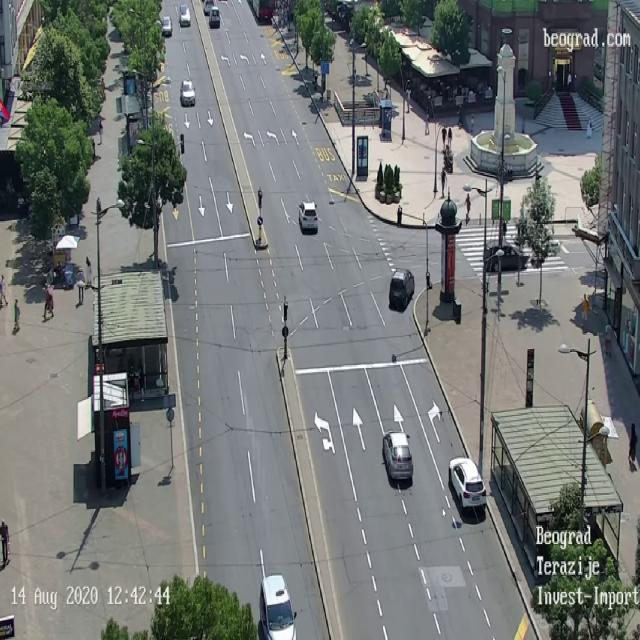car: (259, 574, 297, 640), (448, 456, 487, 513), (382, 430, 413, 481), (484, 239, 528, 273), (389, 268, 414, 311), (298, 200, 318, 234), (179, 79, 196, 106), (180, 6, 192, 30), (202, 0, 215, 16), (161, 18, 171, 34), (211, 11, 221, 27)
